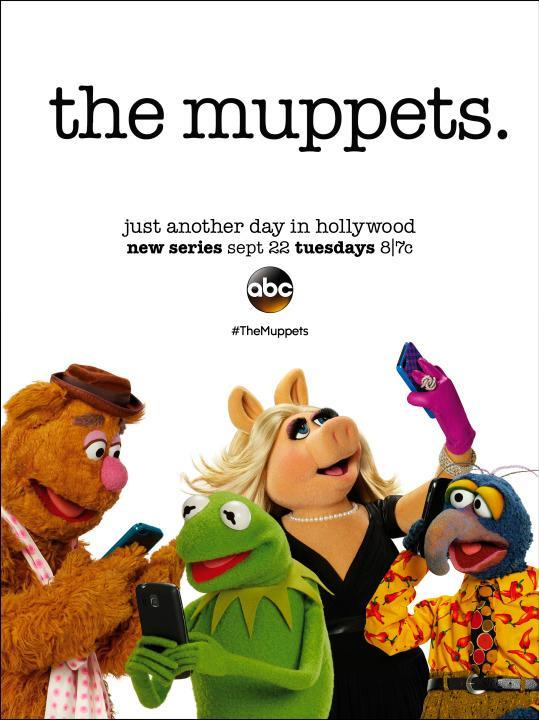kermit: (174, 489, 301, 596)
